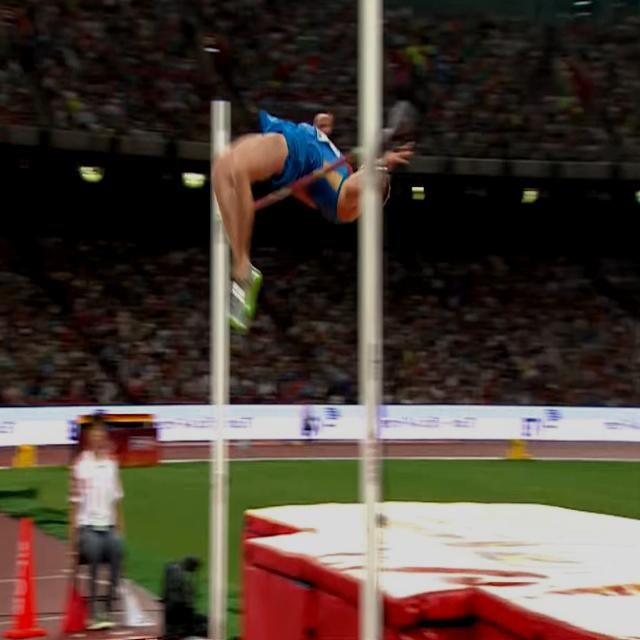jump: (212, 113, 405, 332)
